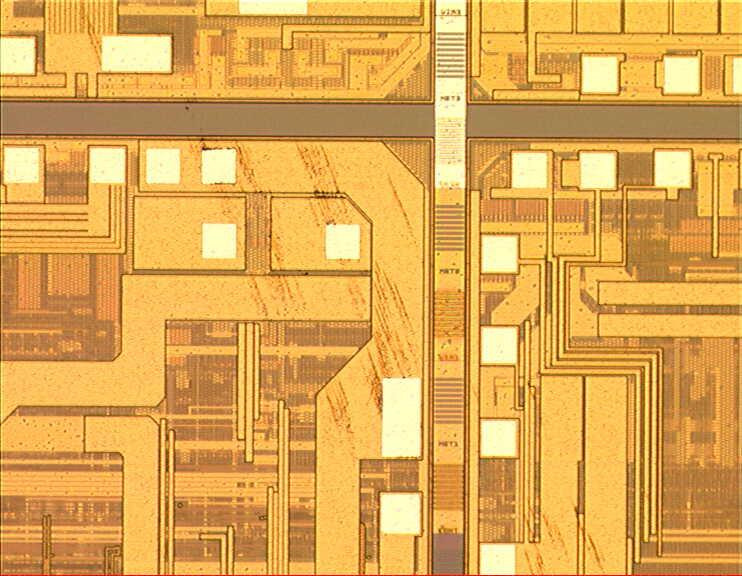SCRATCH: (73, 1, 606, 576)
